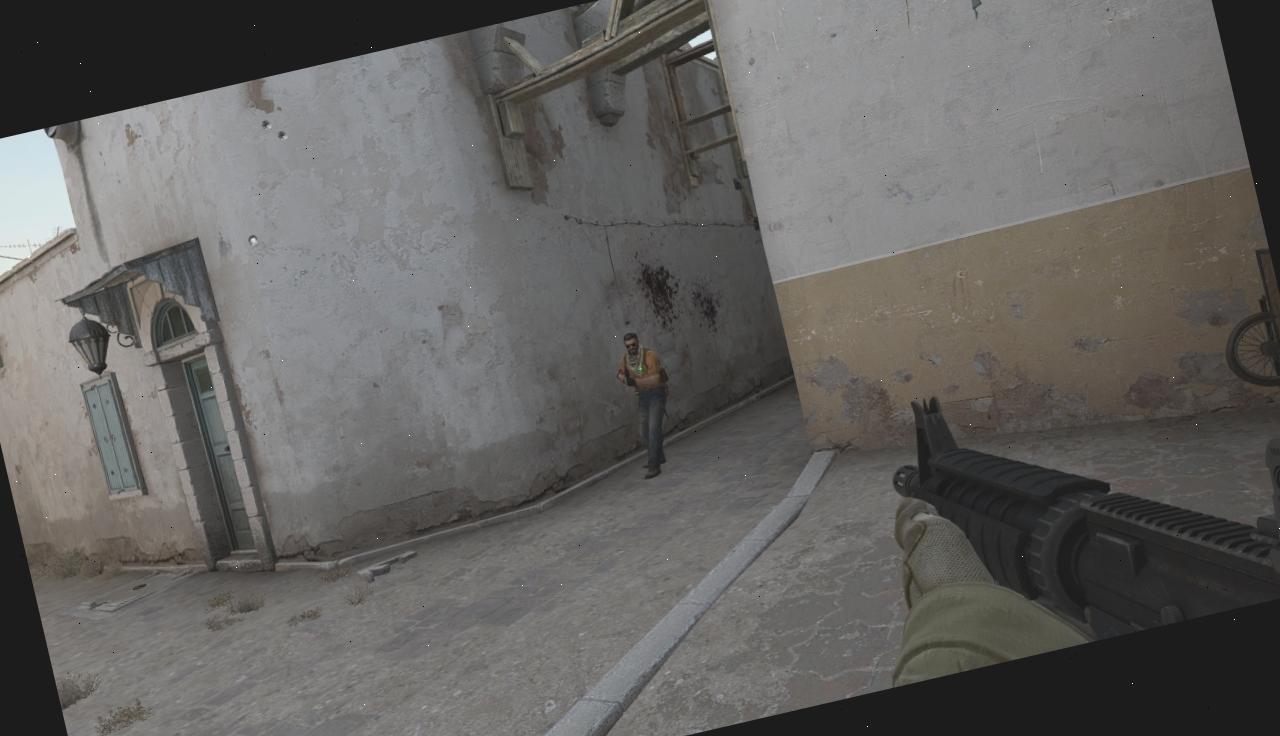rifle: (863, 314, 1280, 679)
tt: (610, 326, 688, 478)
tthead: (621, 331, 642, 357)
